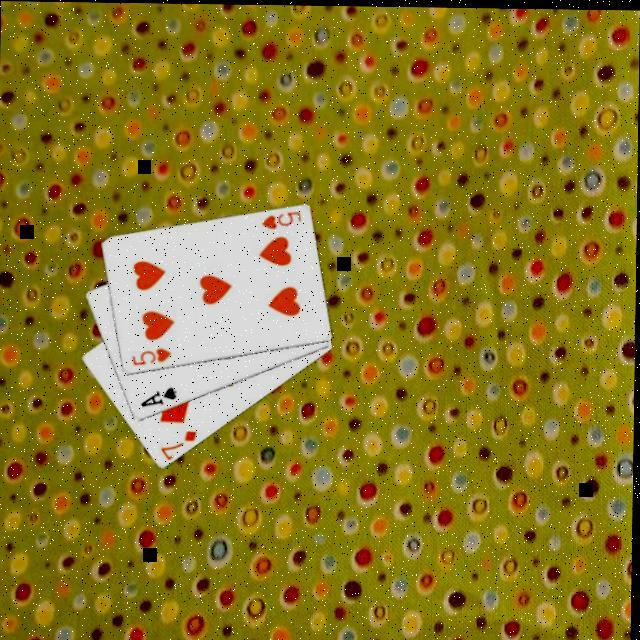5H: (127, 343, 173, 368), (256, 205, 302, 230)
7D: (156, 424, 199, 460)
AS: (136, 382, 178, 408)
